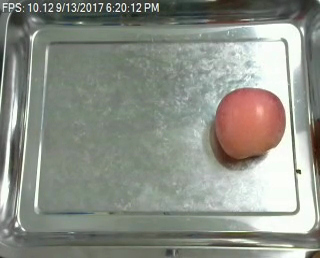Apple: (213, 85, 287, 161)
